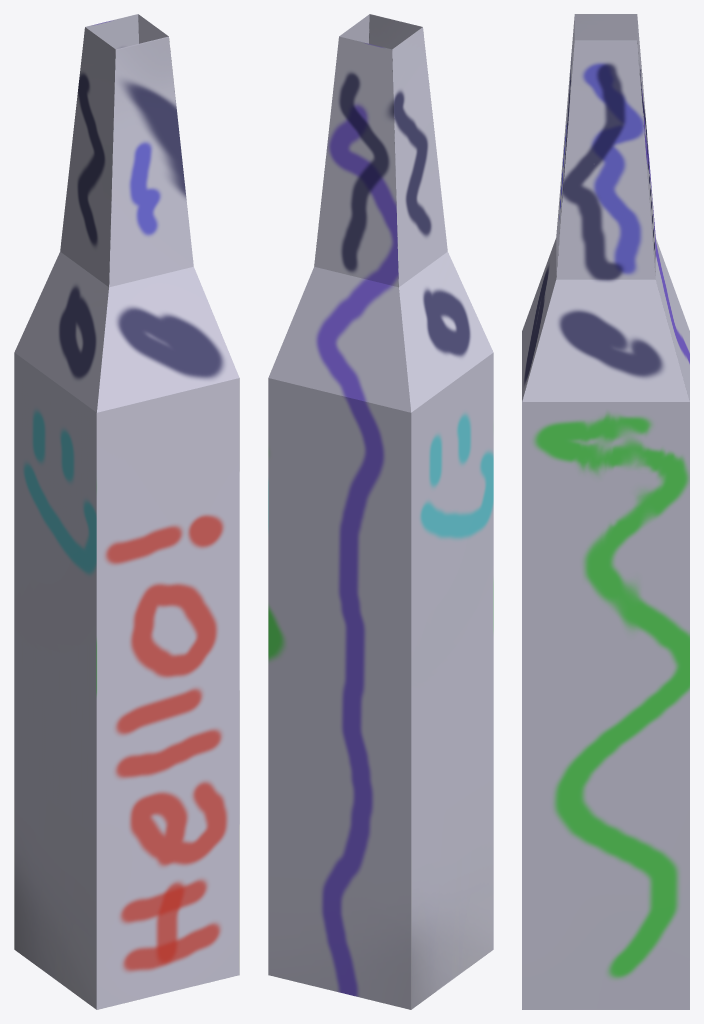
File: sillything.obj
The picture shows the model from 3 angles, left to right: view 1: azimuth 30°, elevation 25°; view 2: azimuth 150°, elevation 25°; view 3: azimuth 270°, elevation 25°; orthographic projection.
Parts seen in each view (by area): view 1: Cube; view 2: Cube; view 3: Cube.
Part boxes in pixels (x1,y1,x2,y2): Cube: (14,14,239,1009); Cube: (268,14,493,1009); Cube: (522,14,689,1009).
Size of the model in its own units: 0.3787 by 2.36 by 0.3787.
Materials: 1 (1 with a texture image).
